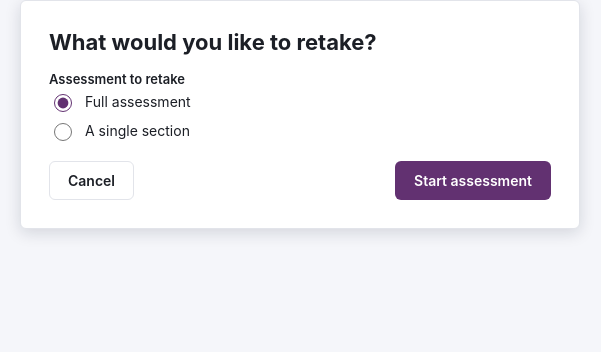
Test case: ReassessPage › can't start a single-section reassessment without a section
Click the radio button labelled "A single section".
click(63, 132)  # box [54,123,72,141]
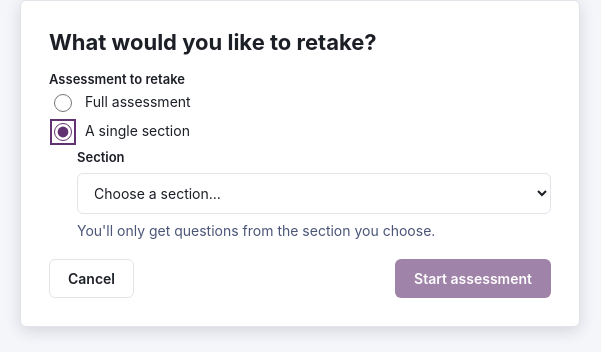
Expected: the dropdown labelled "Section" is shown, [77,173,551,214]
Expected: the button "Start assessment" is disabled, [395,259,551,298]
